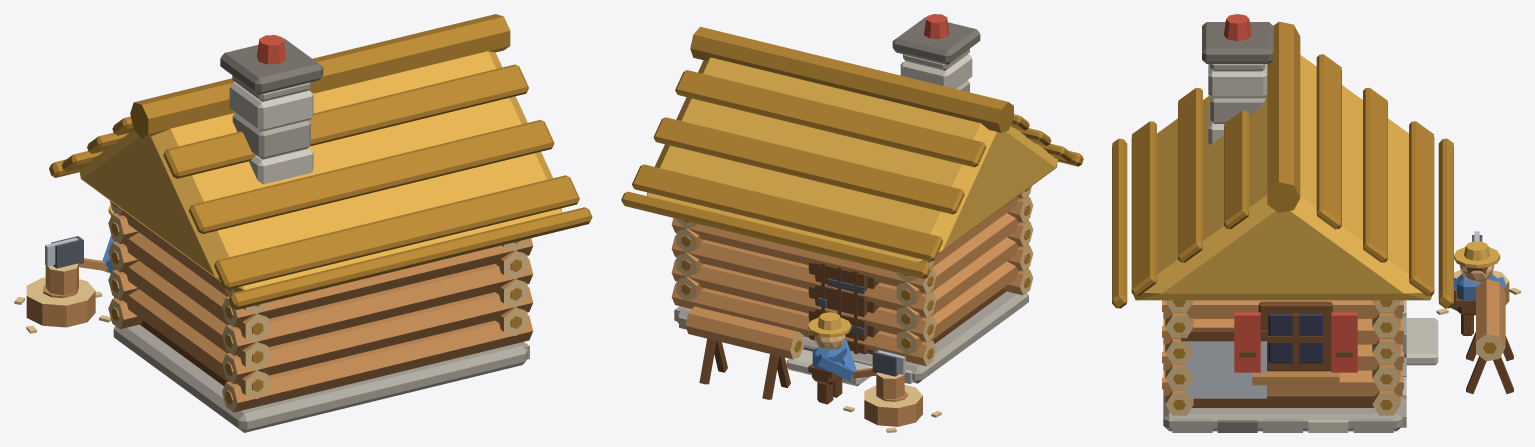
Rendered from woodcutter_l1.fbx.
The picture shows the model from 3 angles, left to right: view 1: azimuth 30°, elevation 25°; view 2: azimuth 150°, elevation 25°; view 3: azimuth 270°, elevation 25°; orthographic projection. The views are drawn at different scales.
Parts seen in each view (by area): view 1: woodcutter_l1, Axe; view 2: woodcutter_l1, Axe; view 3: woodcutter_l1.
Part boxes in pixels (box(x1,y1,x2,y2)): woodcutter_l1: box(14, 14, 592, 432); Axe: box(45, 235, 113, 273); woodcutter_l1: box(621, 14, 1083, 432); Axe: box(815, 339, 905, 380); woodcutter_l1: box(1112, 14, 1520, 432).
Bounding box in the file's own units: 0.7383 × 0.6532 × 0.7587.
